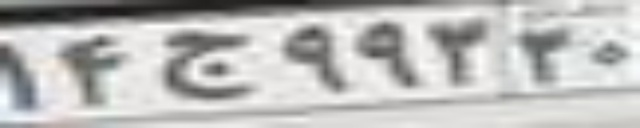0: (585, 38, 631, 69)
1: (0, 41, 40, 109)
2: (517, 25, 568, 83)
3: (424, 16, 487, 85)
4: (60, 33, 126, 106)
9: (278, 26, 344, 93), (355, 21, 421, 86)
jim: (159, 29, 254, 98)
